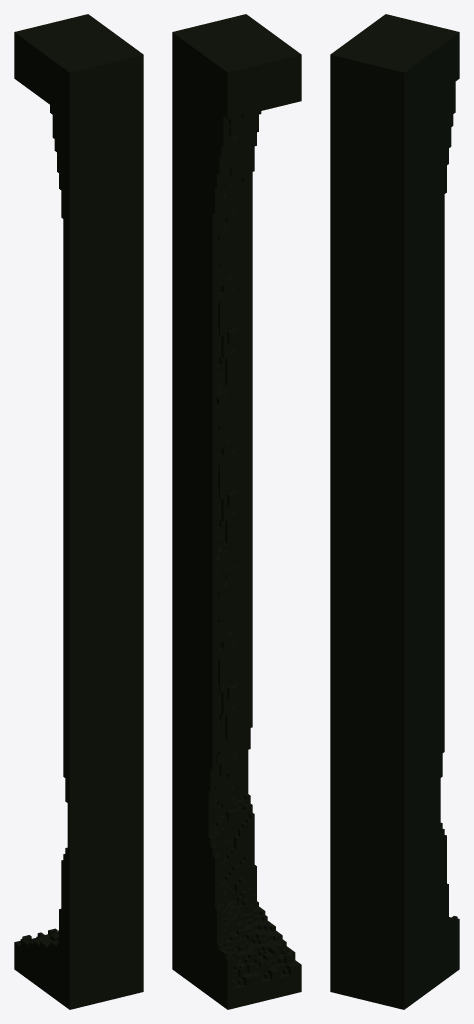
File: Wall_2_mirror.glb
3 views of the same model, side by side, from view 1: azimuth 30°, elevation 25°; view 2: azimuth 210°, elevation 25°; view 3: azimuth 330°, elevation 25° (orthographic).
Visible parts, largest first — view 1: Untitled.015, Untitled.009, Untitled.012; view 2: Untitled.015, Untitled.009, Untitled.012; view 3: Untitled.015, Untitled.009, Untitled.012.
Boxes of the visible parts, left/top/right/bottom form: Untitled.015: left=14, top=546, right=143, bottom=1009; Untitled.009: left=63, top=217, right=143, bottom=564; Untitled.012: left=14, top=14, right=143, bottom=235; Untitled.015: left=172, top=510, right=301, bottom=1009; Untitled.009: left=172, top=181, right=252, bottom=553; Untitled.012: left=172, top=14, right=301, bottom=224; Untitled.015: left=330, top=535, right=459, bottom=1009; Untitled.009: left=330, top=206, right=444, bottom=564; Untitled.012: left=330, top=14, right=459, bottom=235.
Bounding box in the file's own units: 2 × 24.2 × 2.6.
Materials: 3 (3 with a texture image).
